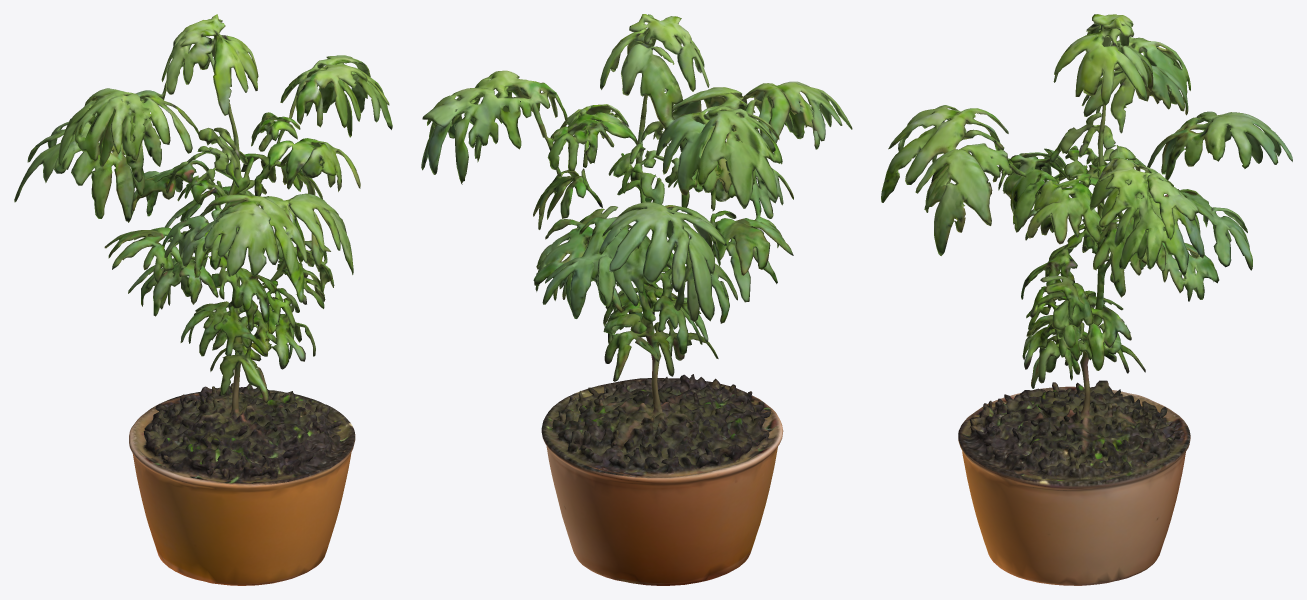
Rendered from Potted_Sapling_0905075235.glb.
3 renders of one model, left to right at view 1: azimuth 30°, elevation 25°; view 2: azimuth 150°, elevation 25°; view 3: azimuth 270°, elevation 25°, orthographic. The views are drawn at different scales.
Size of the model in its own units: 1.31 by 1.99 by 1.4.
1 material, 1 textured.
